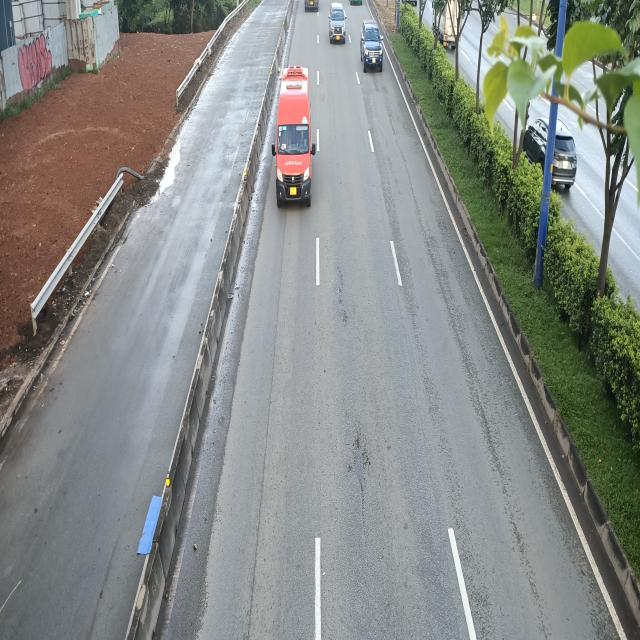car: (359, 20, 383, 70), (330, 3, 348, 44)
van: (272, 67, 316, 207)
